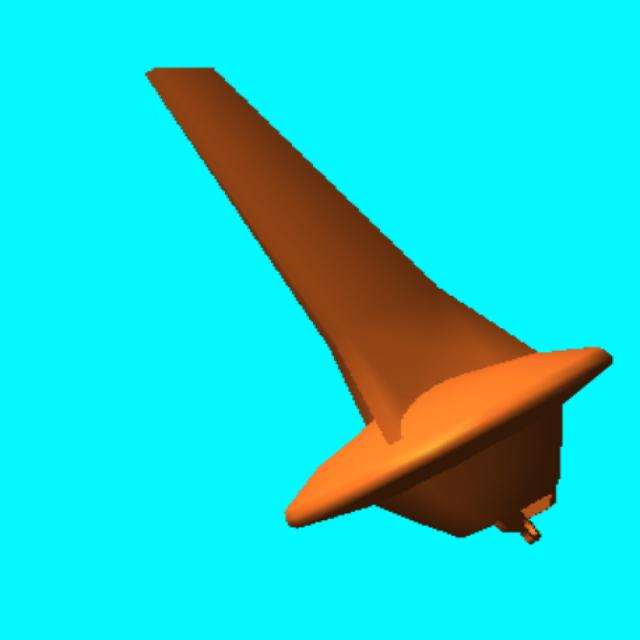OrangeBuoy: (148, 69, 611, 542)
